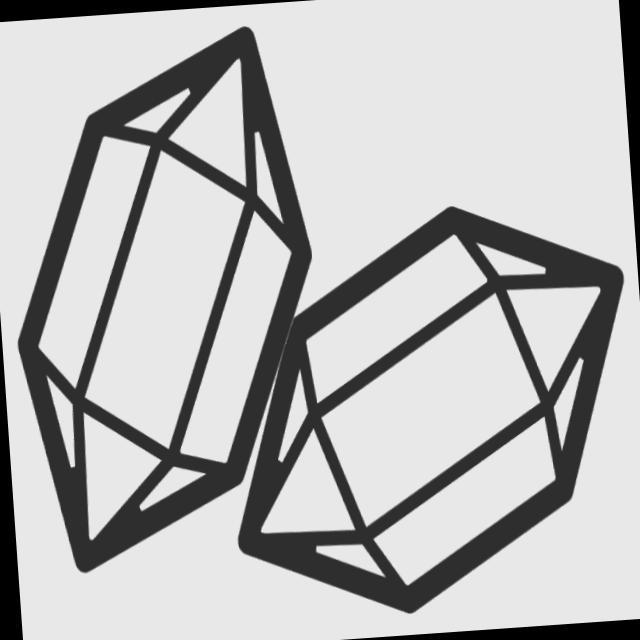crystal: (180, 177, 640, 636), (1, 13, 350, 586)
